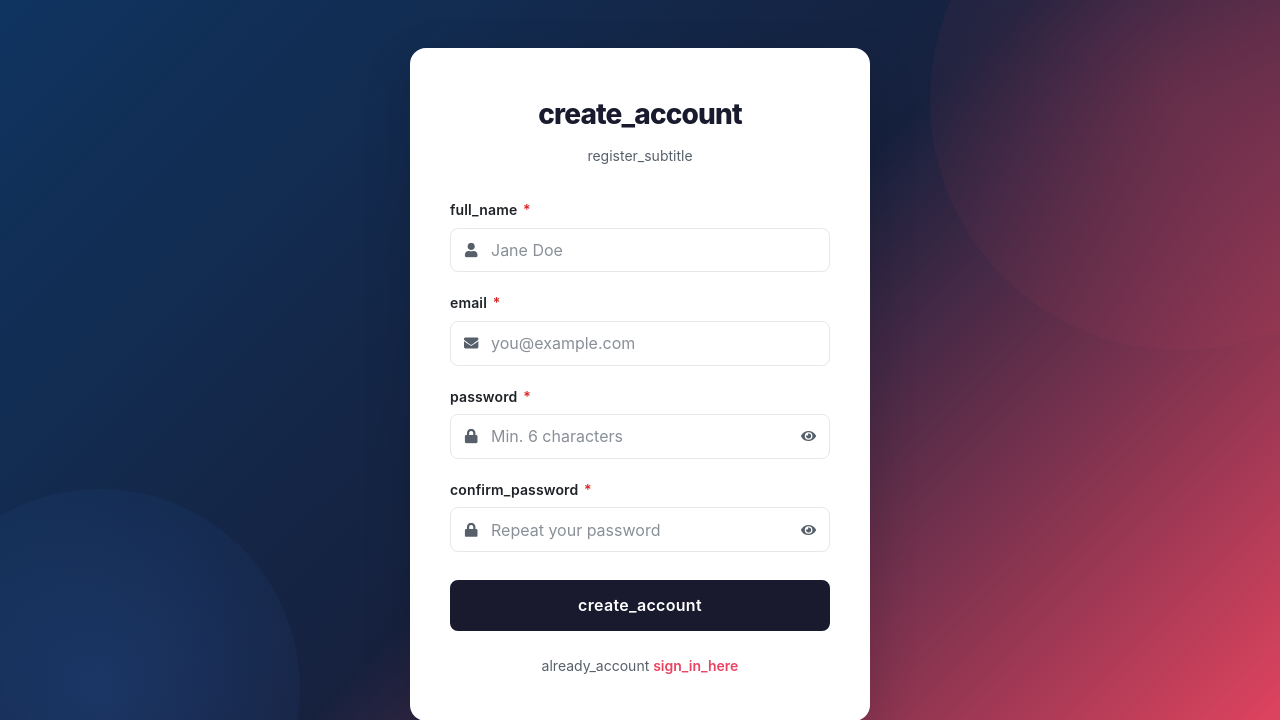
it: Register page › field validation › shows name_min error for name less than 2 characters
This screenshot has width=1280, height=720.
In the field labelled "full_name *": [640, 250] box top-left (450, 228), bottom-right (830, 272), type "A"
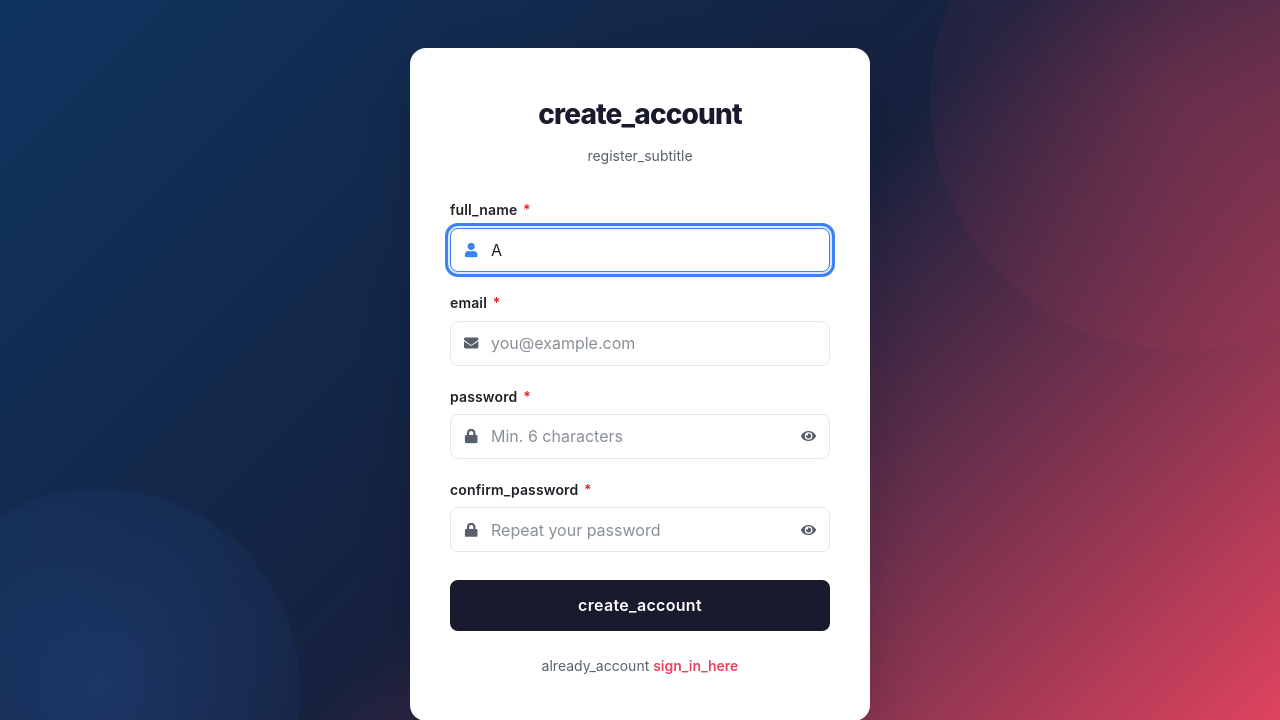
Press Tab
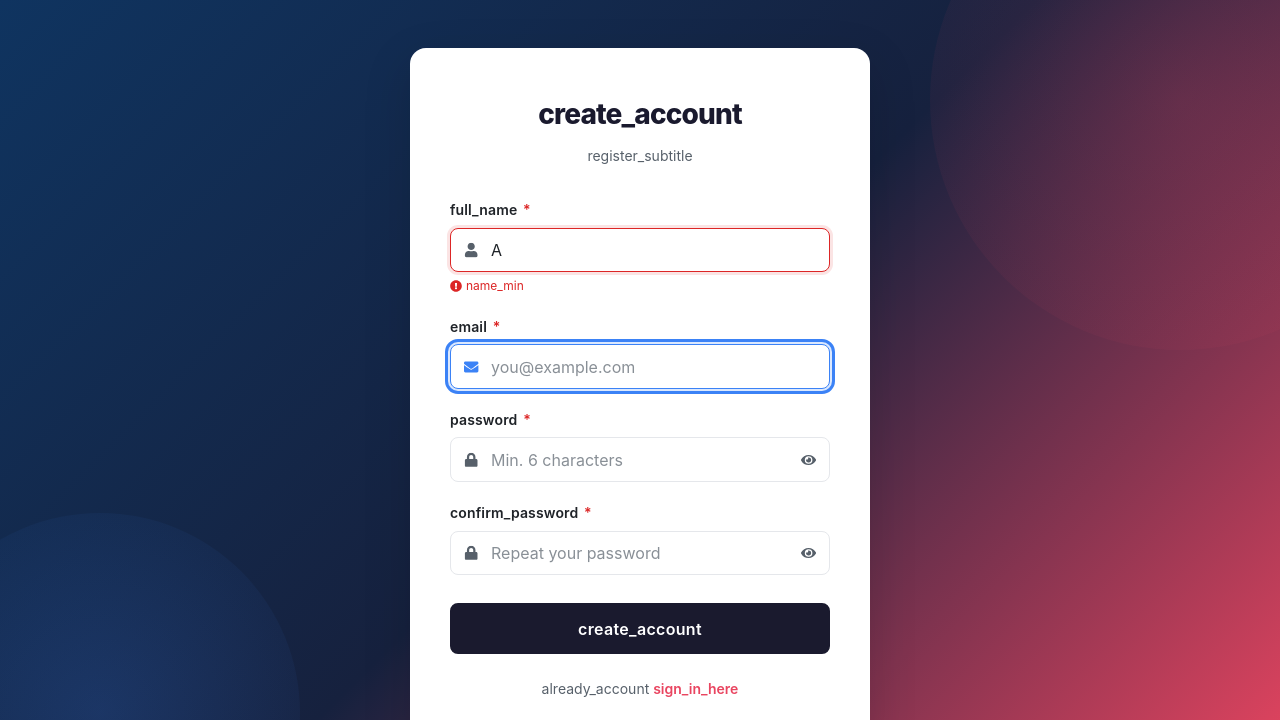
Result: the message "name_min" is shown at top-left (450, 278), bottom-right (524, 293)
